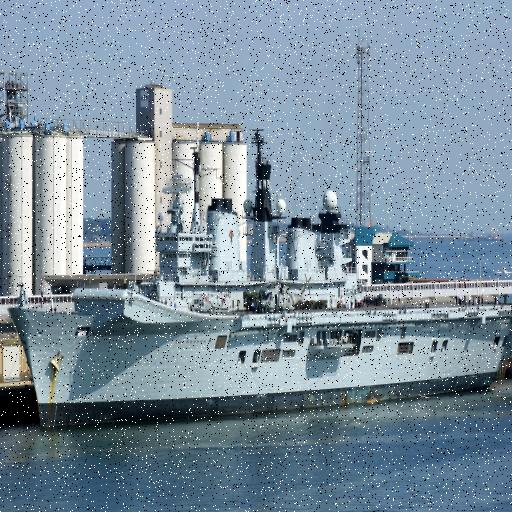Portanaves: (8, 119, 512, 436)
